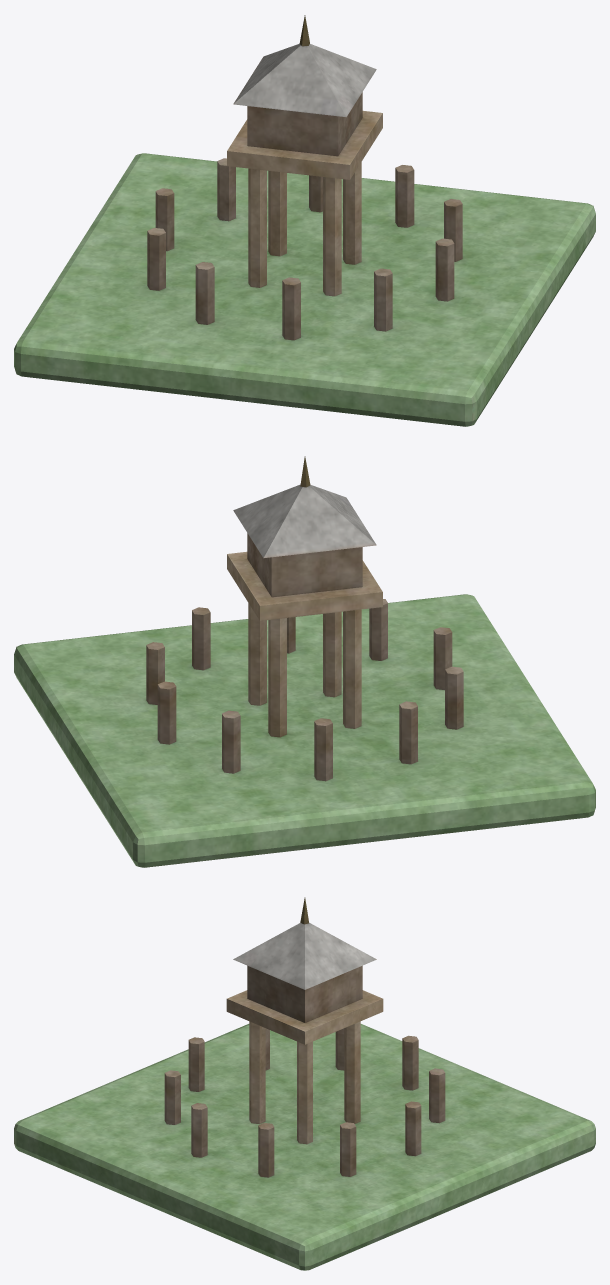
File: outpost.glb
3 renders of one model, top to bottom at view 1: azimuth 30°, elevation 25°; view 2: azimuth 150°, elevation 25°; view 3: azimuth 270°, elevation 25°, orthographic. The views are drawn at different scales.
Visible parts, largest first — view 1: dilek; view 2: dilek; view 3: dilek.
Boxes of the visible parts, x1,y1,x2,y2 form: dilek: (14,15,595,426); dilek: (14,456,595,867); dilek: (14,897,595,1270).
Bounding box in the file's own units: 2.42 × 1.17 × 2.42.
1 material, 1 textured.
